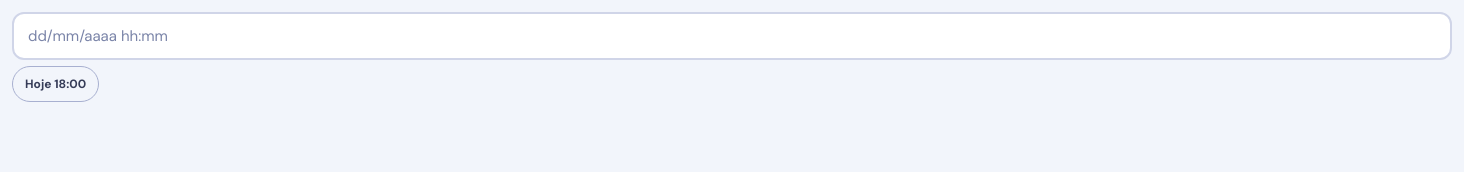
Test case: DateTimeField › hora inválida limpa o valor e mostra o erro
In the field named "saida": (732, 36) [12, 12, 1452, 60], type "131120262560"
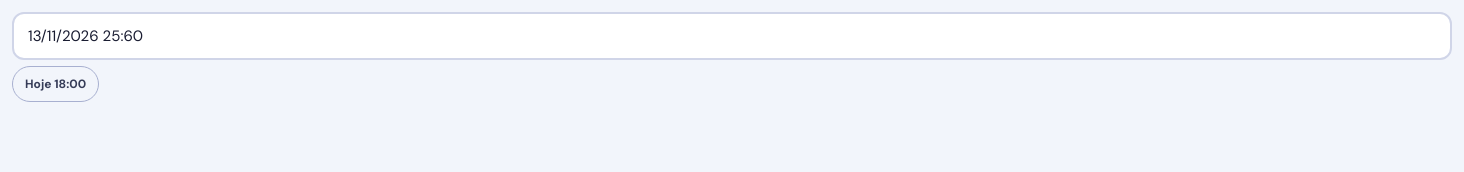
Leave the field named "saida", box [12, 12, 1452, 60]
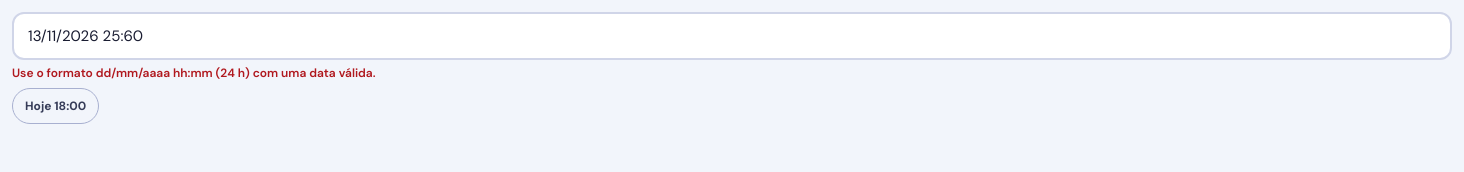
Check: the message shows "dd/mm/aaaa hh:mm", box [12, 65, 376, 81]
